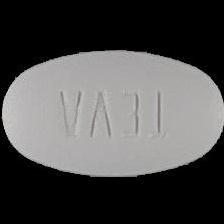55154-6164: (0, 0, 224, 224)
